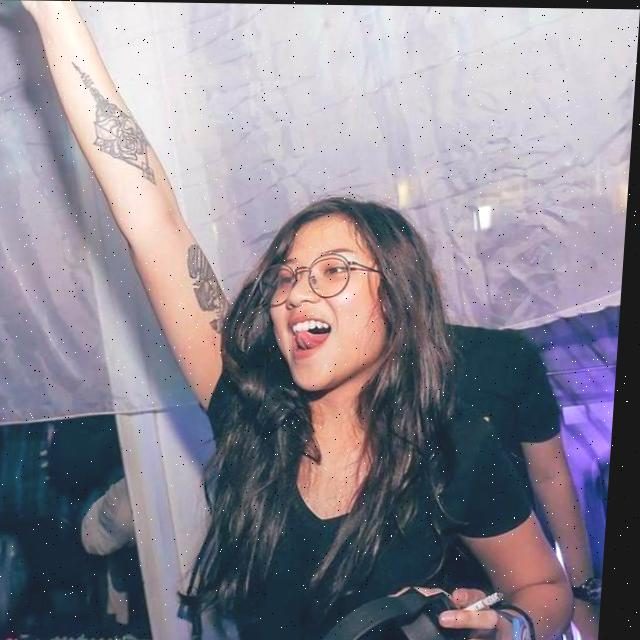cigarette: (471, 589, 512, 609)
